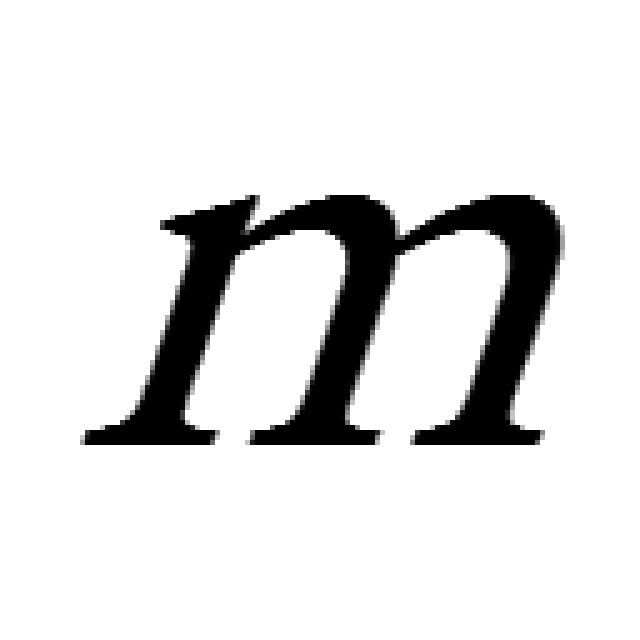M: (75, 180, 570, 455)
